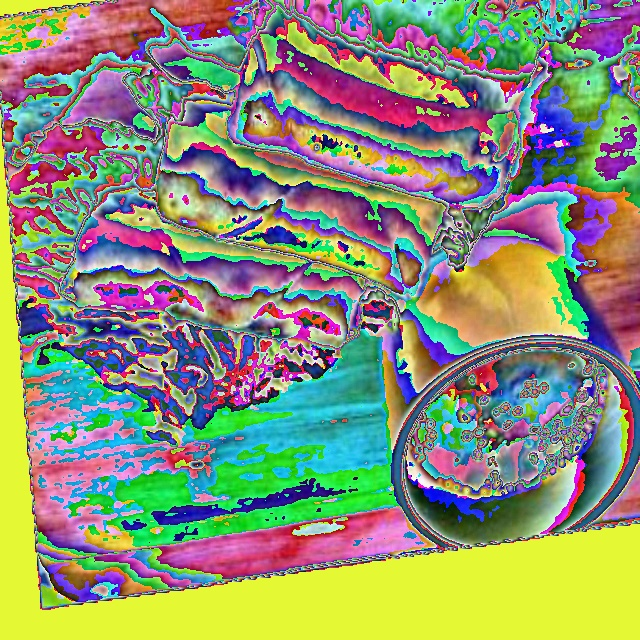background: (8, 0, 602, 450), (201, 152, 608, 499)
